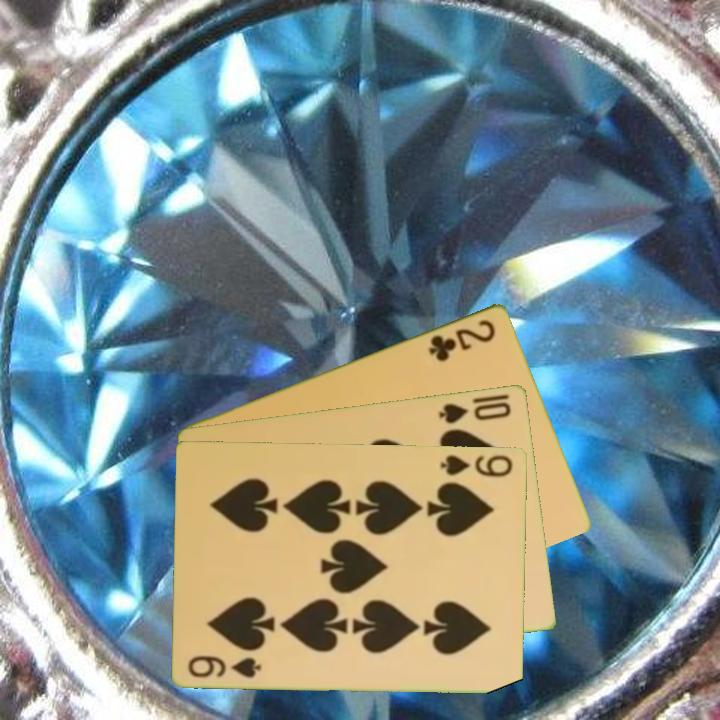10s: (436, 397, 514, 426)
2c: (425, 315, 499, 364)
9s: (185, 651, 265, 680), (437, 451, 516, 479)
